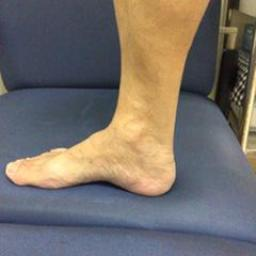Medial View -Right Foot-: (2, 90, 195, 209)
